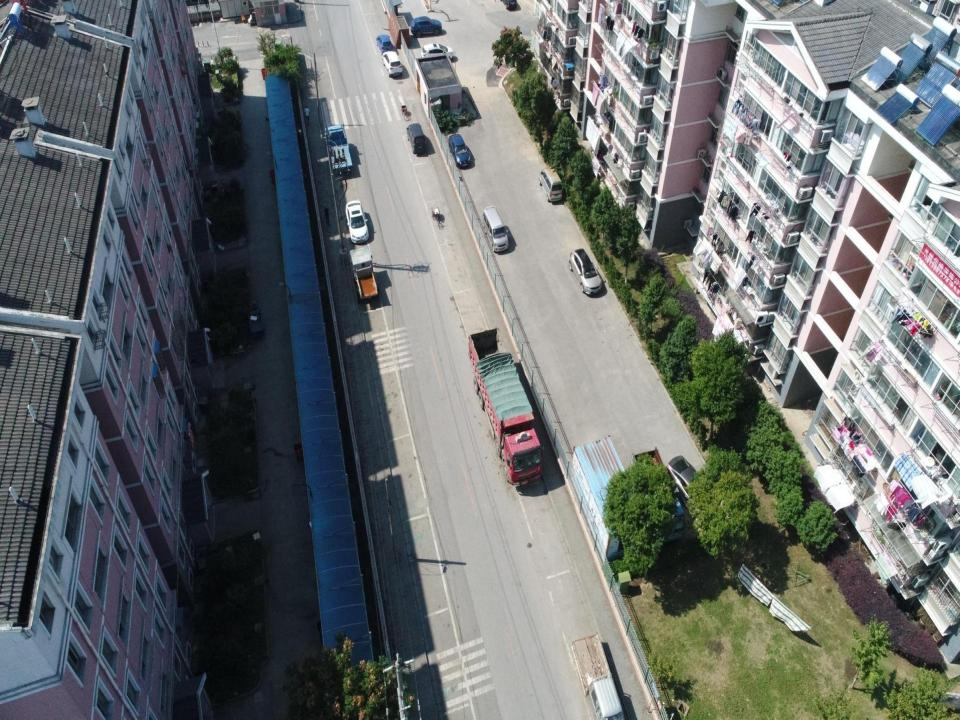car: (666, 454, 710, 520), (568, 246, 605, 296), (344, 196, 371, 243), (410, 15, 443, 37), (420, 42, 454, 62), (382, 48, 404, 77), (376, 32, 394, 51), (500, 0, 518, 10)
truck: (467, 326, 543, 487), (633, 446, 687, 548), (571, 632, 625, 720), (325, 122, 354, 173)
van: (482, 204, 511, 254), (538, 160, 566, 202), (448, 133, 471, 169), (406, 122, 428, 155)
